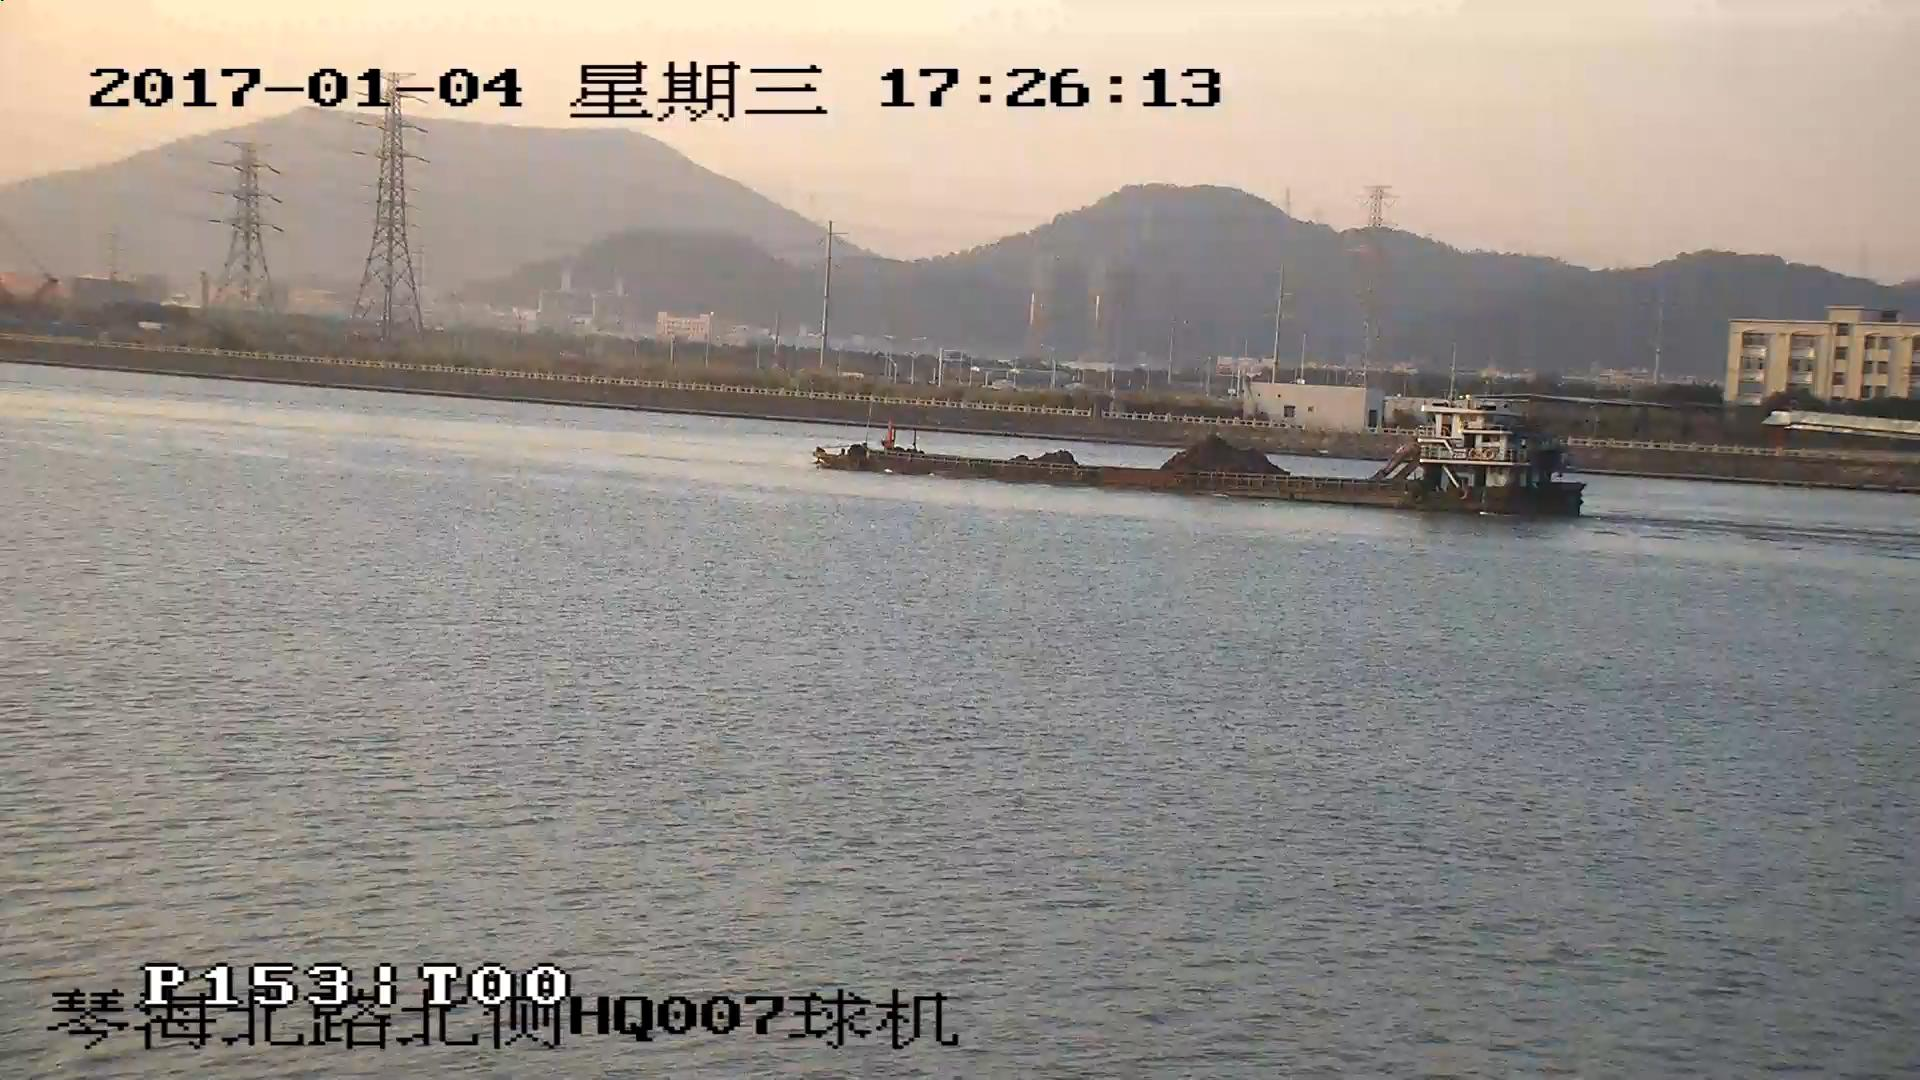ore carrier: (817, 405, 1583, 515)
